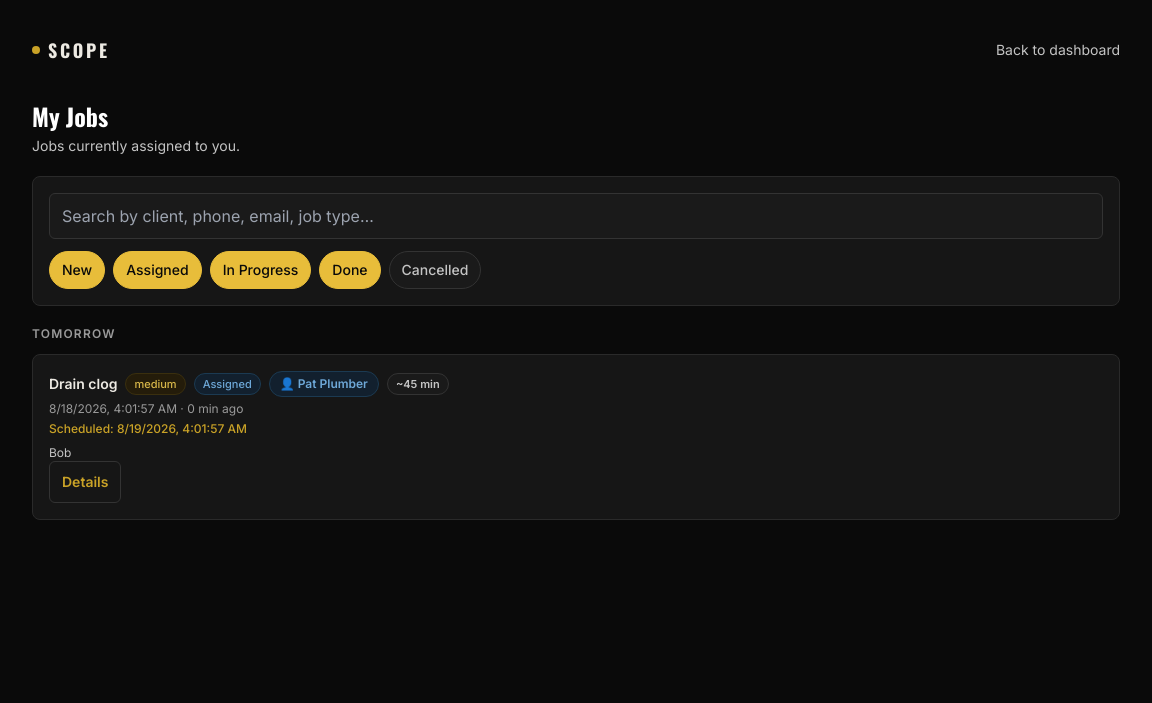
JobsQueue role-gated schedule/duration controls › an assigned plumber sees Details, duration control, and notes -- but no status/assignment/schedule controls
This screenshot has width=1152, height=703.
Click the button "Details".
click(85, 482)  # box x1=49 y1=461 x2=122 y2=503
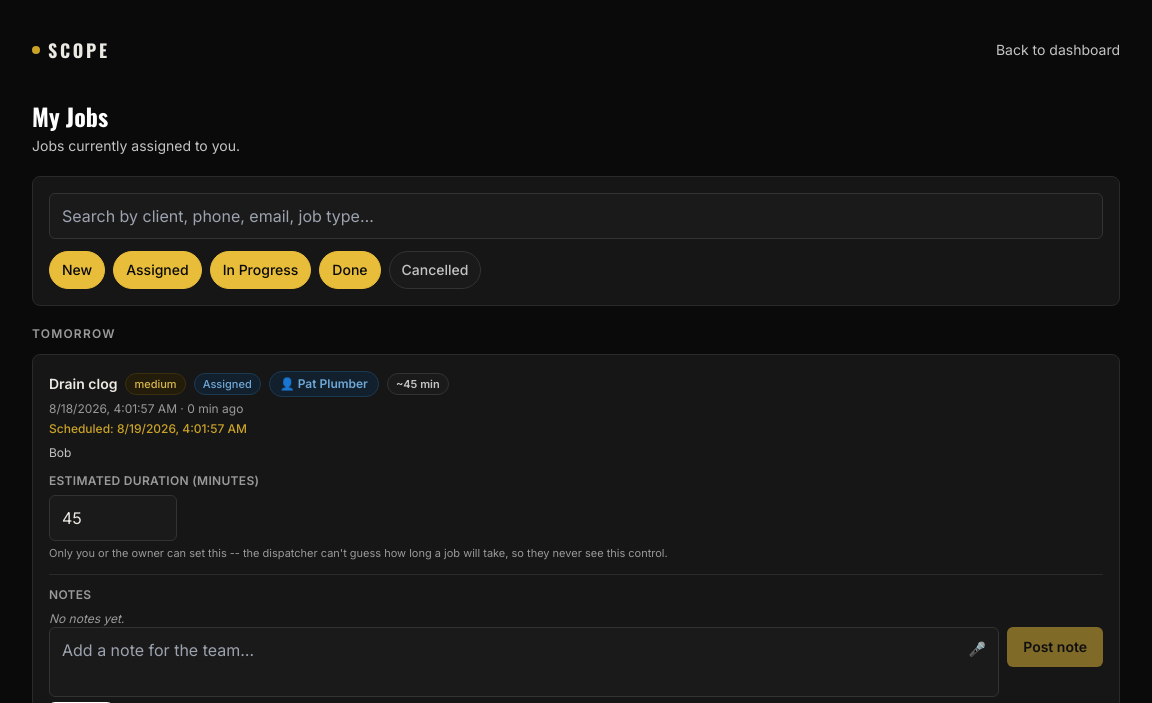
Expected: the text "Estimated duration (minutes)" is shown, x1=49 y1=473 x2=259 y2=488
Expected: the text "Notes" is shown, x1=49 y1=586 x2=92 y2=602
